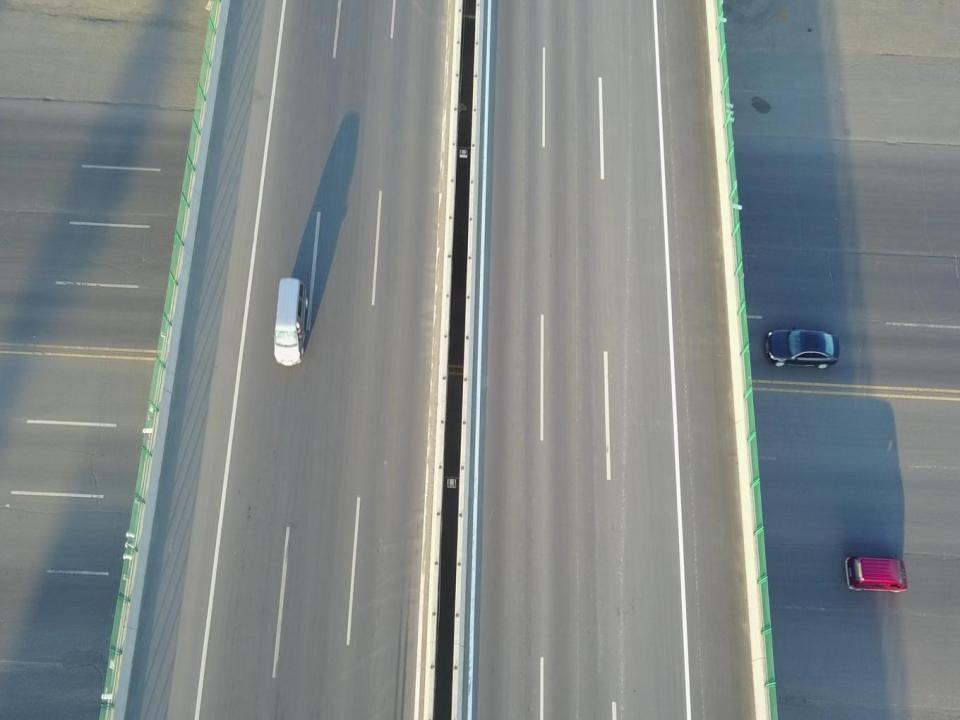car: (766, 326, 841, 371), (843, 553, 908, 595)
van: (273, 278, 311, 366)
